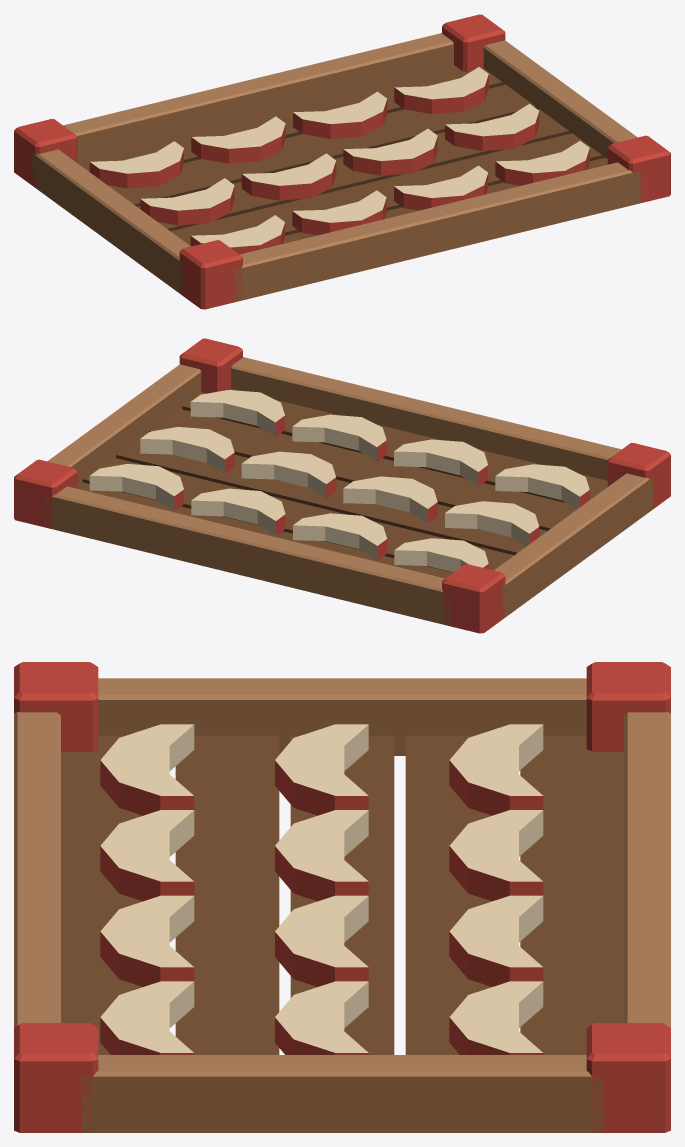
Rendered from FMS_Workshop_PRD_08.fbx.
3 views of the same model, one above another, from view 1: azimuth 30°, elevation 25°; view 2: azimuth 150°, elevation 25°; view 3: azimuth 270°, elevation 25° (orthographic). The views are drawn at different scales.
Visible parts, largest first — view 1: FMS_Workshop_PRD_08_Body; view 2: FMS_Workshop_PRD_08_Body; view 3: FMS_Workshop_PRD_08_Body.
Boxes of the visible parts, x1,y1,x2,y2 form: FMS_Workshop_PRD_08_Body: (14, 14, 670, 309); FMS_Workshop_PRD_08_Body: (14, 338, 670, 633); FMS_Workshop_PRD_08_Body: (14, 662, 670, 1132).
Bounding box in the file's own units: 0.5 × 0.045 × 0.35.
Materials: 1 (1 with a texture image).
